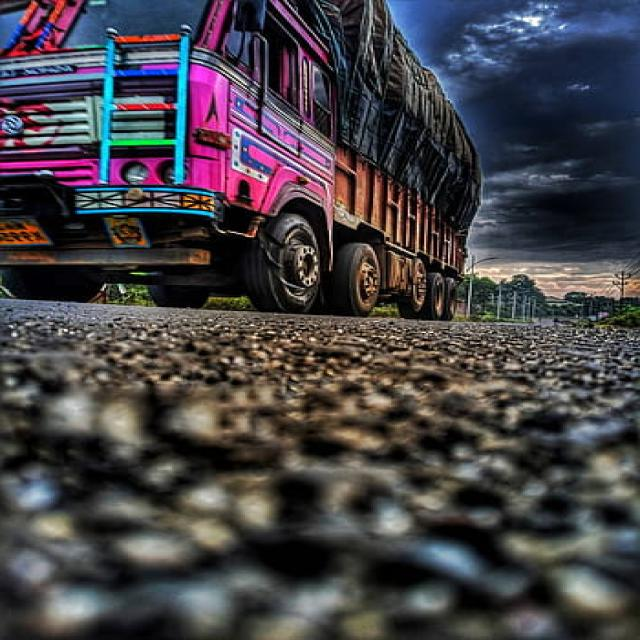truck: (1, 0, 482, 318)
